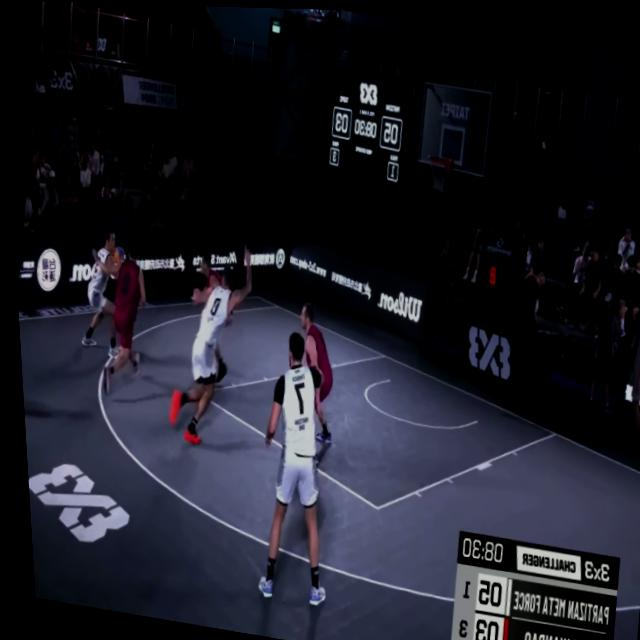ball: (104, 240, 126, 273)
hoop: (417, 146, 454, 201)
player: (230, 325, 354, 606), (154, 232, 263, 453), (80, 232, 156, 397), (171, 245, 241, 398), (281, 299, 344, 444), (69, 225, 129, 354)
